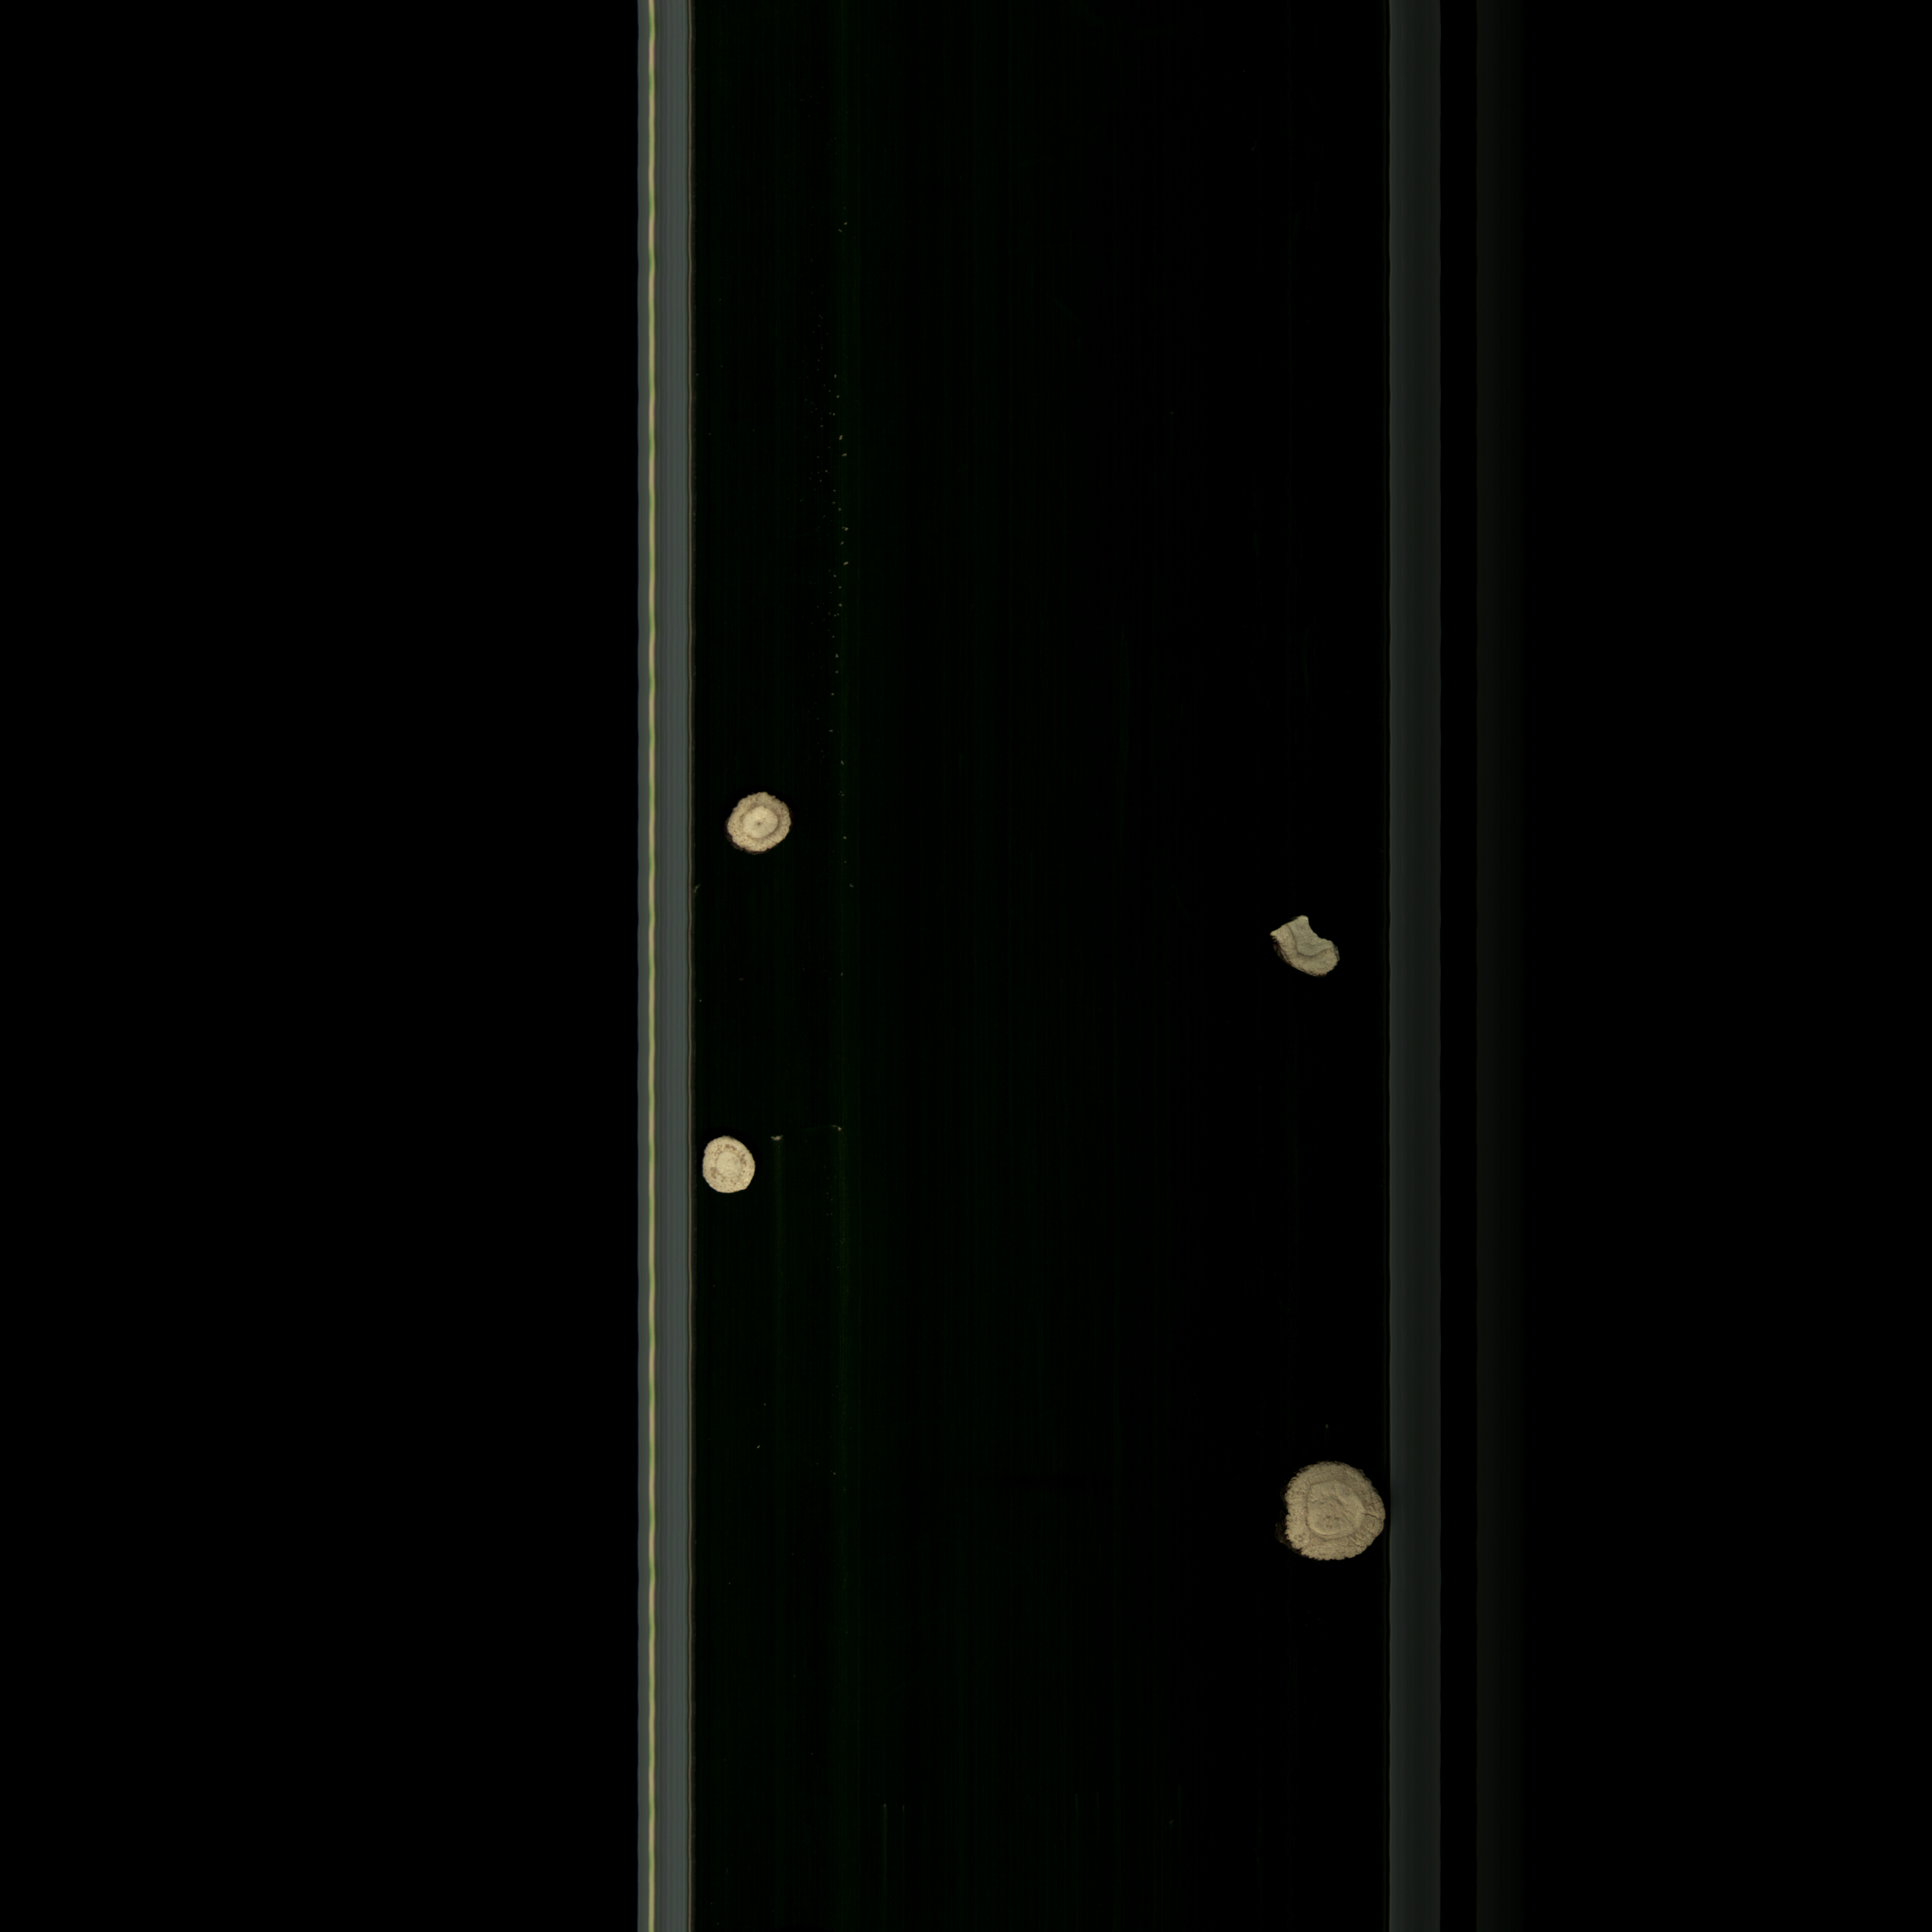debris: (1261, 895, 1352, 993)
